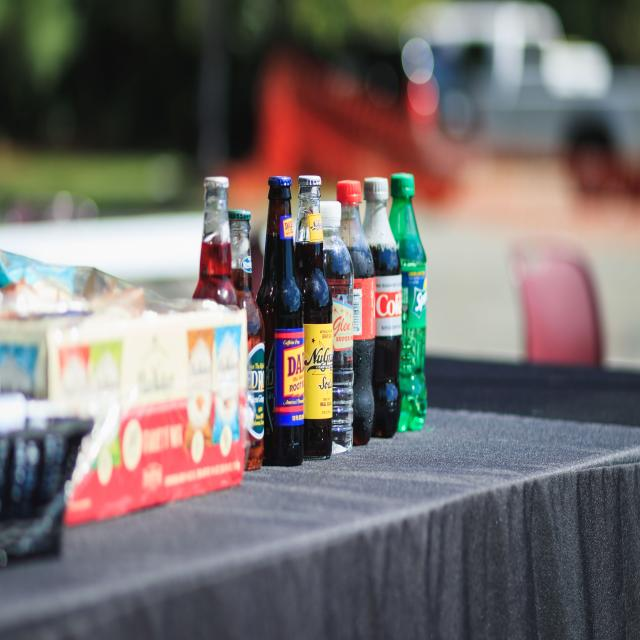Bottle: (257, 177, 304, 465), (295, 176, 333, 458), (363, 178, 402, 438), (337, 181, 375, 444), (390, 174, 427, 431), (229, 210, 264, 470), (321, 202, 353, 453), (194, 177, 237, 305)
